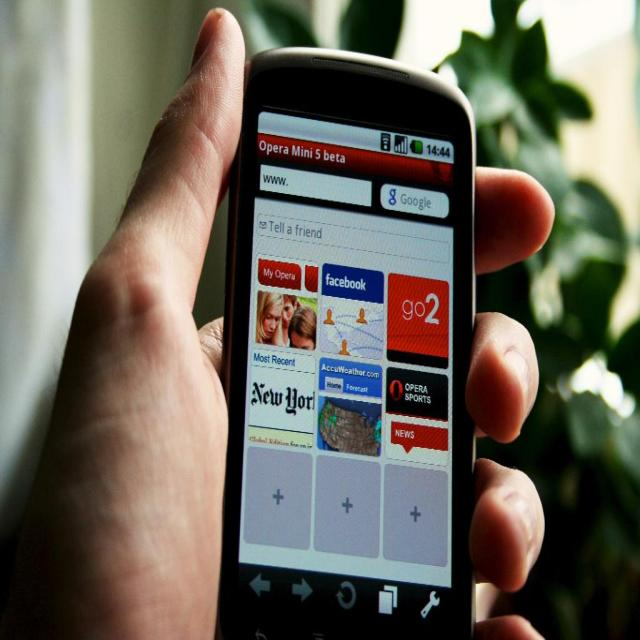Mobile-phone: (212, 37, 496, 637)
